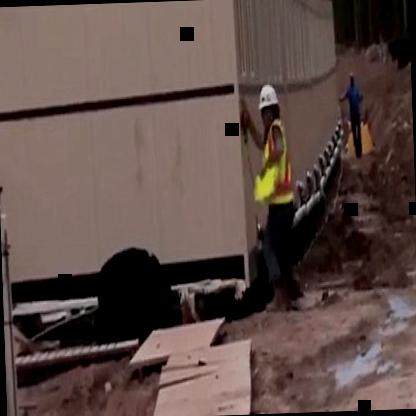helmet: (257, 80, 280, 138)
